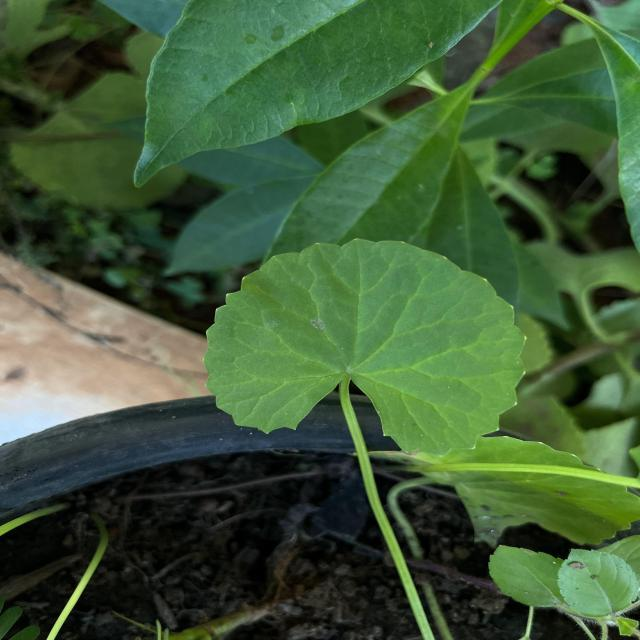Centella asiatica: (200, 235, 530, 461)
